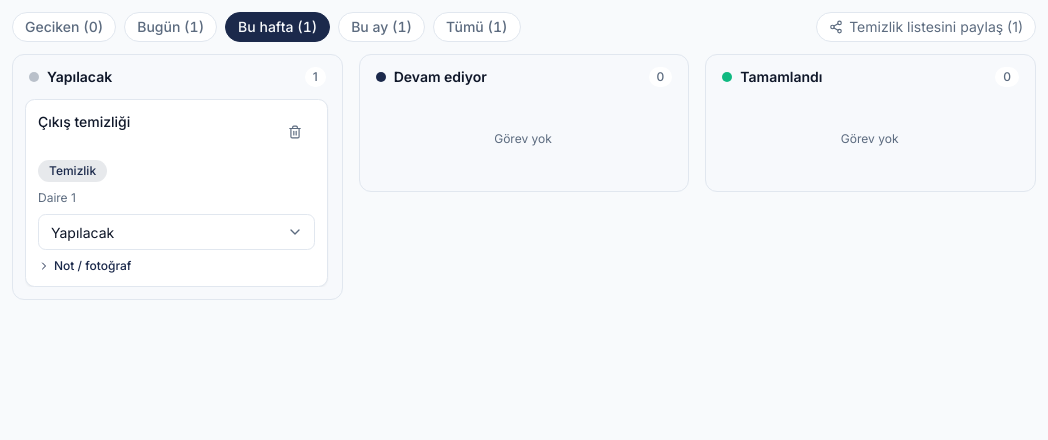
Scenario: TaskBoard — not kaydı görünür ve etiketli › AÇIK Kaydet düğmesi vardır; boşken pasif, yazınca aktif
This screenshot has width=1048, height=440.
Click the button "Not / fotoğraf". click: (85,266)
box: top-left (38, 252), bottom-right (131, 280)
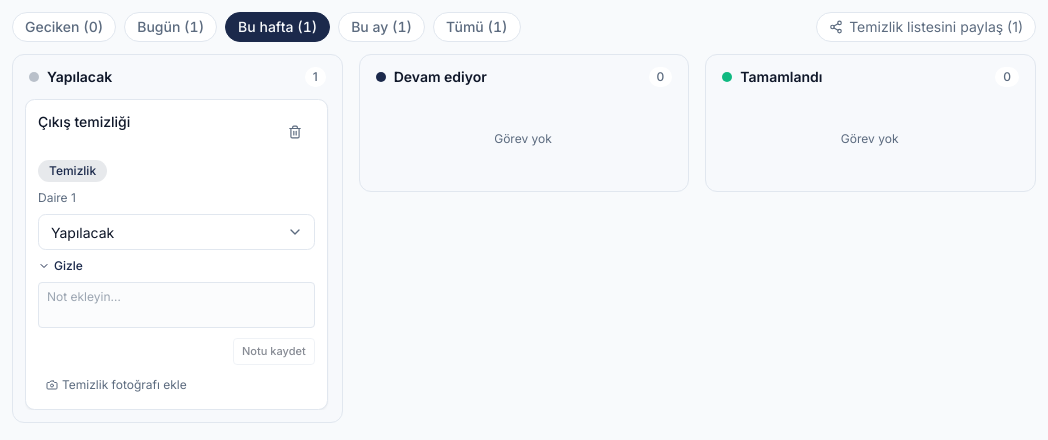
Result: the button "Notu kaydet" is disabled at top-left (233, 338), bottom-right (315, 364)
Type "Anahtar kutuda" into the text box named "Görev notu". click: (176,305)
box: top-left (38, 282), bottom-right (315, 328)
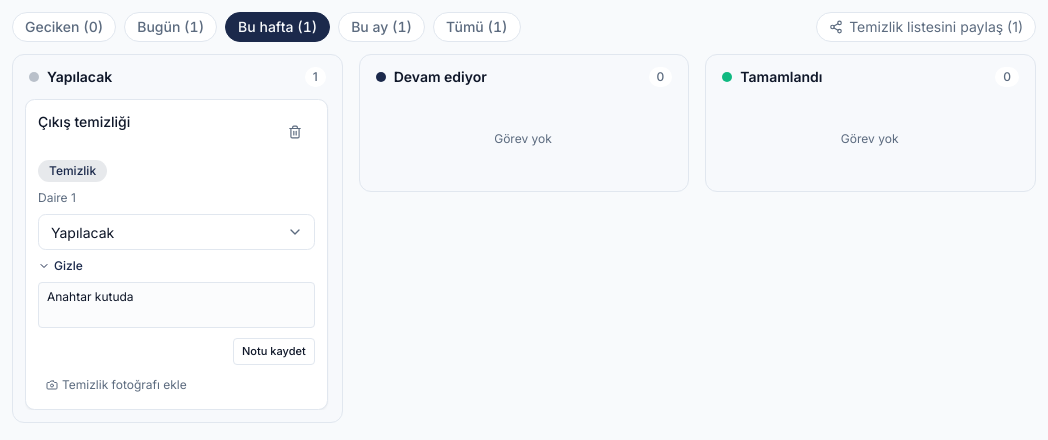
Result: the button "Notu kaydet" is enabled at top-left (233, 338), bottom-right (315, 364)
